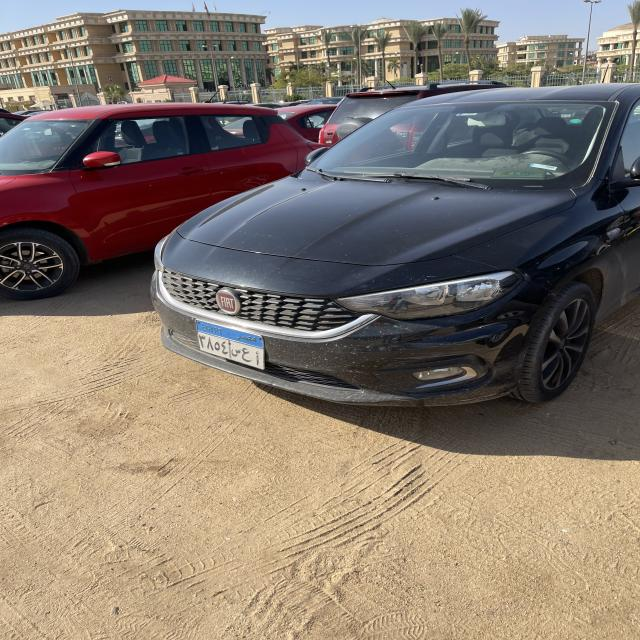License Plate: (196, 319, 264, 370)
